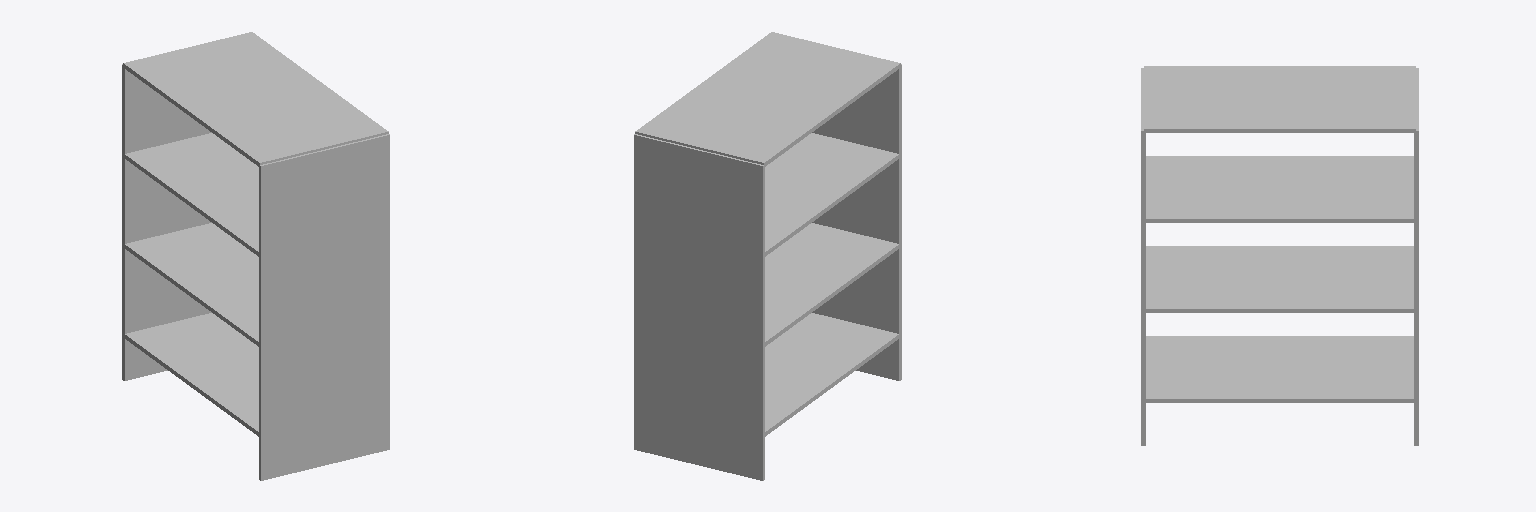
File: bookshelves.2obj.obj
3 renders of one model, left to right at view 1: azimuth 30°, elevation 25°; view 2: azimuth 150°, elevation 25°; view 3: azimuth 270°, elevation 25°, orthographic.
Visible parts, largest first — view 1: Cube.005_Cube.005; view 2: Cube.005_Cube.005; view 3: Cube.005_Cube.005.
Boxes of the visible parts, box(x1,y1,x2,y2) form: Cube.005_Cube.005: box(122, 32, 389, 480); Cube.005_Cube.005: box(634, 32, 901, 480); Cube.005_Cube.005: box(1141, 66, 1418, 445).
Size of the model in its own units: 0.6 by 1.41 by 1.12.